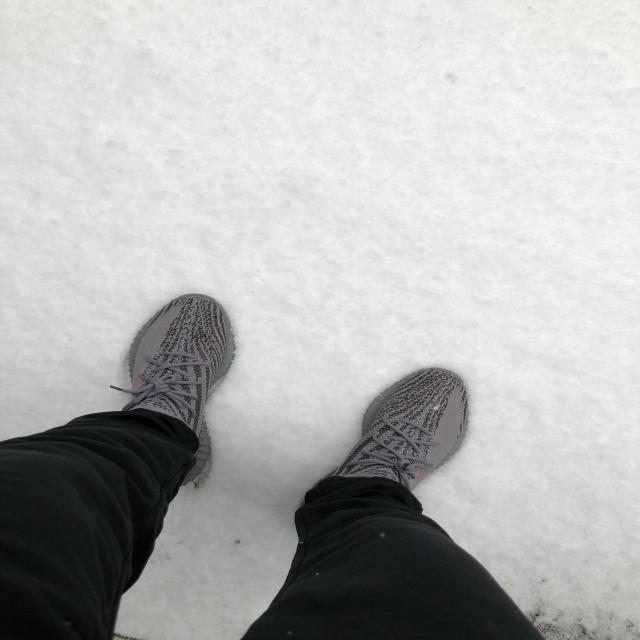shoe: (100, 287, 246, 498), (318, 360, 485, 521)
